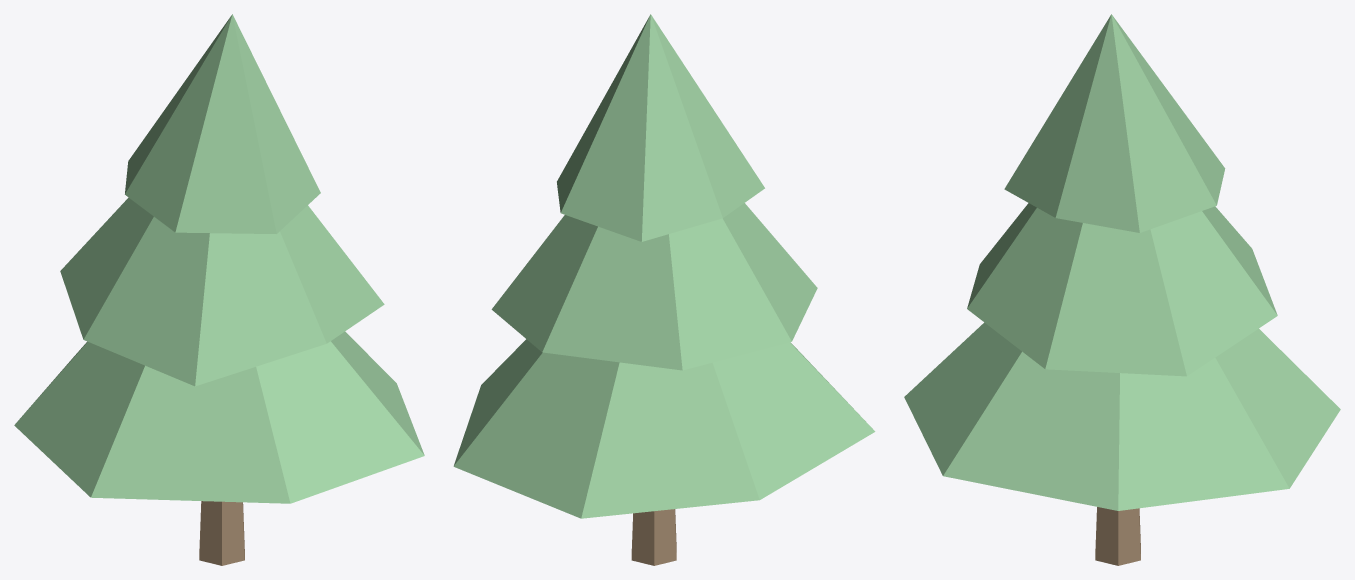
Rendered from tree.glb.
3 views of the same model, side by side, from view 1: azimuth 30°, elevation 25°; view 2: azimuth 150°, elevation 25°; view 3: azimuth 270°, elevation 25° (orthographic).
Visible parts, largest first — view 1: tree; view 2: tree; view 3: tree.
Part boxes in pixels (x1,y1,x2,y2): tree: [14, 14, 424, 565]; tree: [453, 14, 875, 565]; tree: [904, 14, 1340, 565].
Size of the model in its own units: 2.48 by 3.65 by 2.65.
